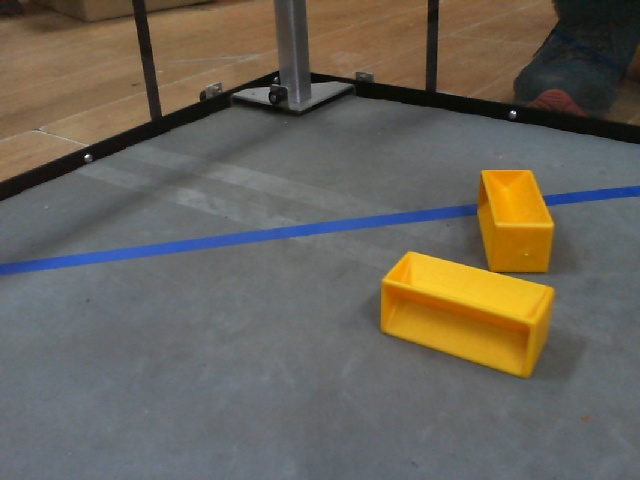YellowSample: (374, 249, 560, 385), (469, 167, 557, 281)
